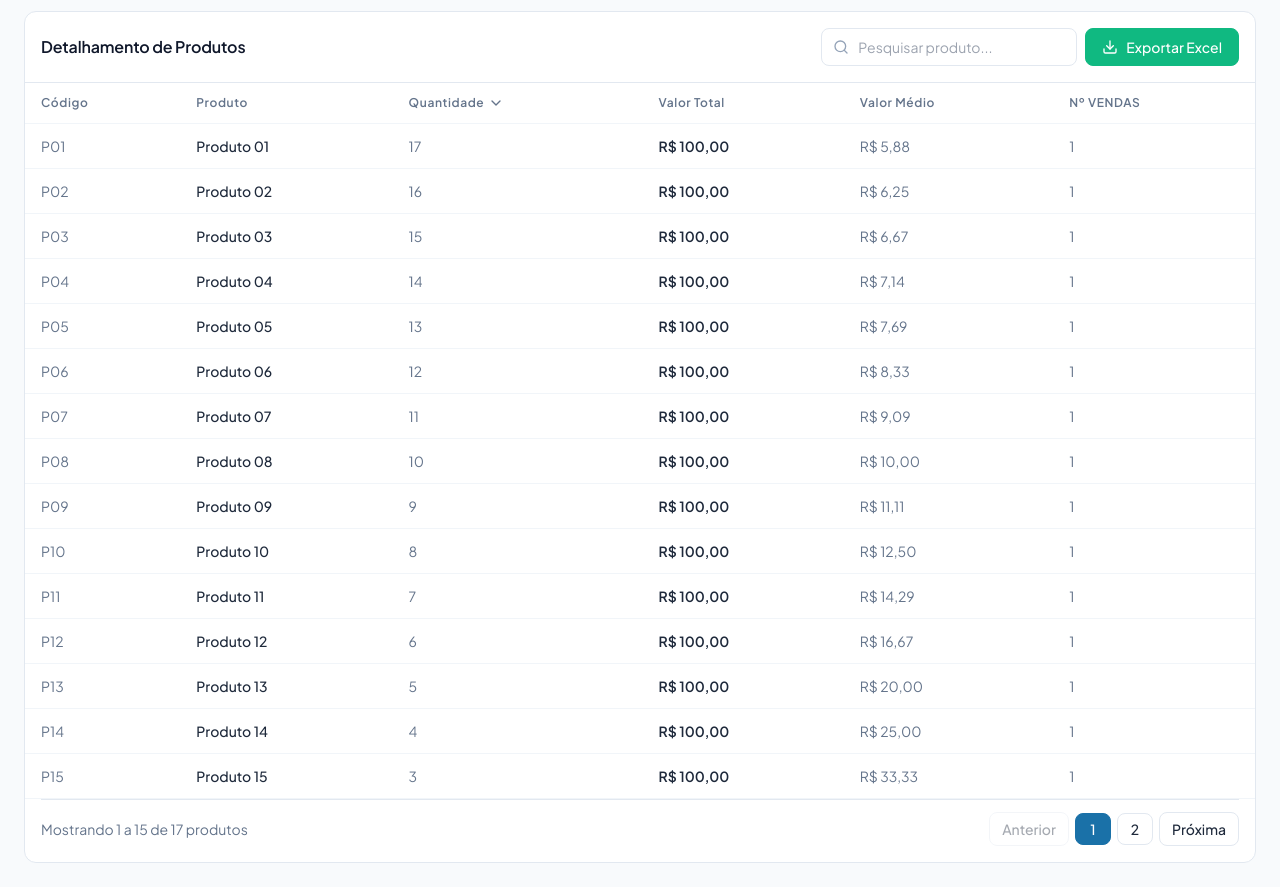
Test: paginacao em Produtos › Anterior volta para a primeira
(page scrolled)
Click the button "Próxima": [1199, 829] box [1159,812,1239,846]
(page scrolled)
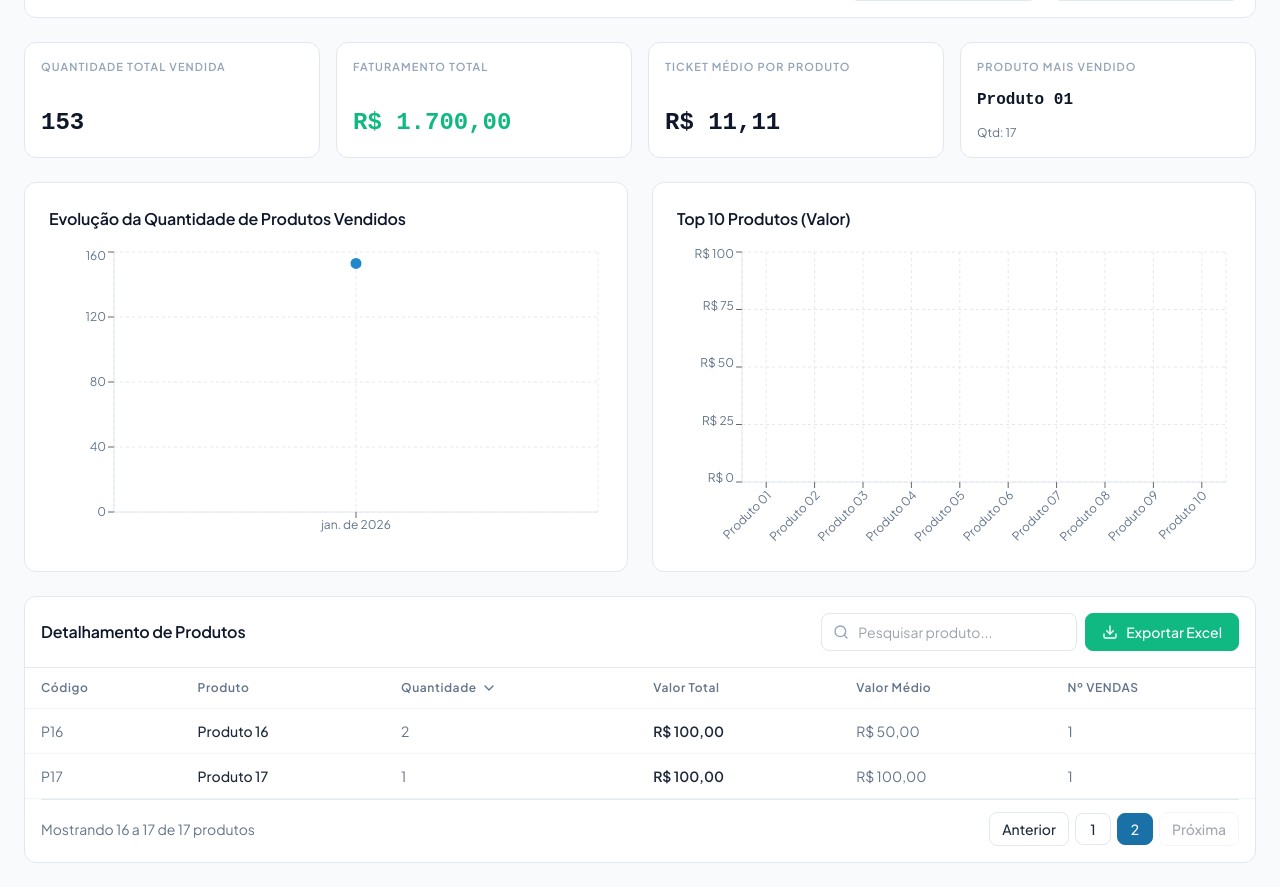
Click the button "Anterior": [1029, 829] box [989,812,1069,846]
(page scrolled)
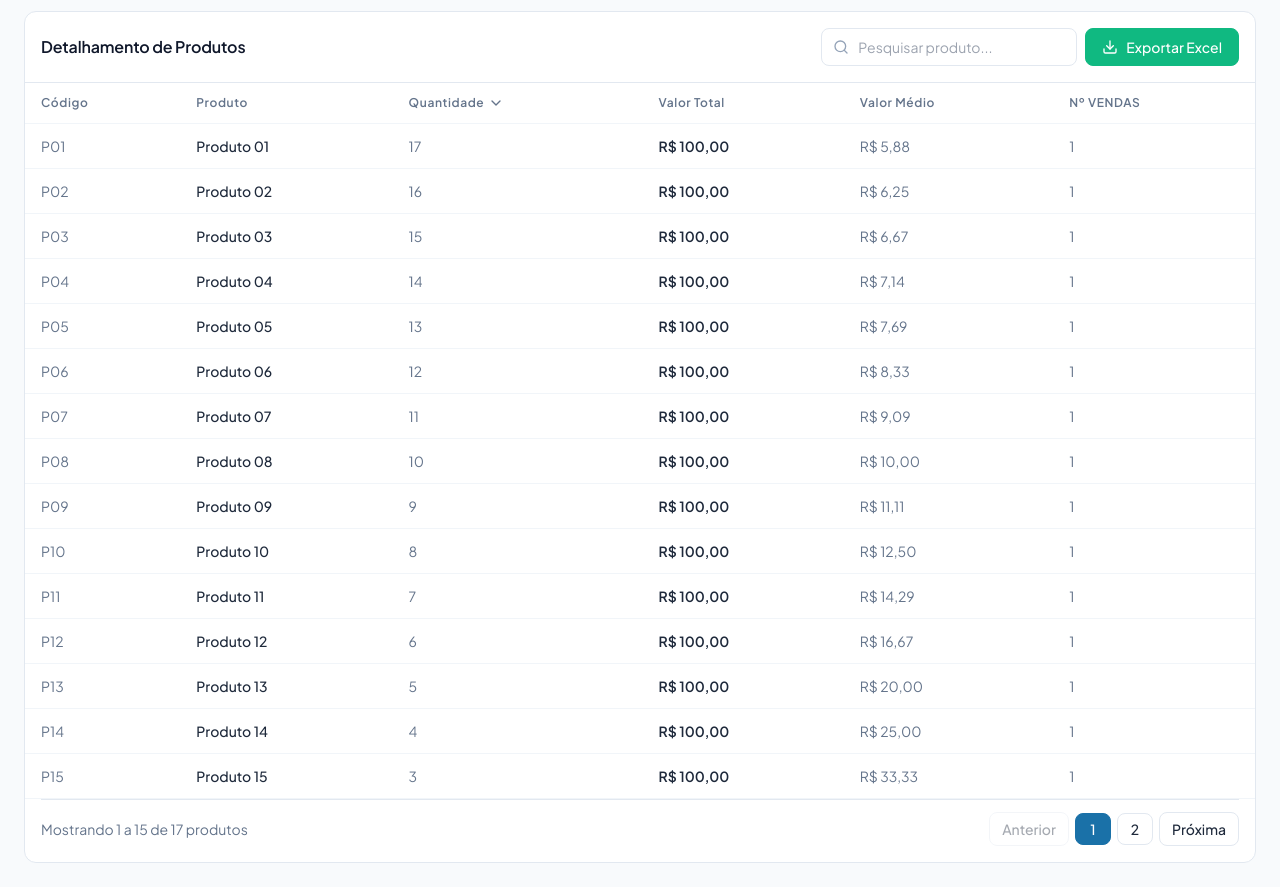
Result: the text "Produto 01" is shown at [196,137,269,155]
Result: the text "Mostrando 1 a 15 de 17 produtos" is shown at [41,819,248,839]
